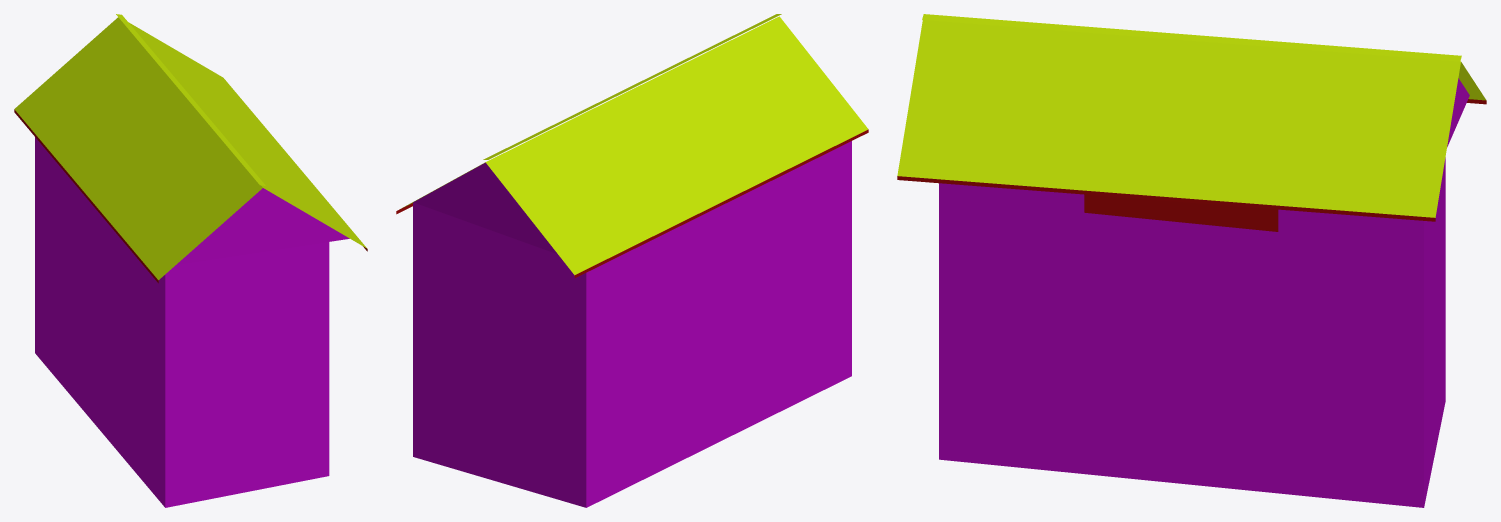
The model's file is bgj_355.glb.
3 renders of one model, left to right at view 1: azimuth 30°, elevation 25°; view 2: azimuth 150°, elevation 25°; view 3: azimuth 270°, elevation 25°, orthographic. The views are drawn at different scales.
Parts seen in each view (by area): view 1: bgj_355; view 2: bgj_355; view 3: bgj_355.
Boxes of the visible parts, <box> form: bgj_355: <box>14,14,367,507</box>; bgj_355: <box>396,14,868,507</box>; bgj_355: <box>897,14,1486,507</box>.
Size of the model in its own units: 10.5 by 12.26 by 16.43.
